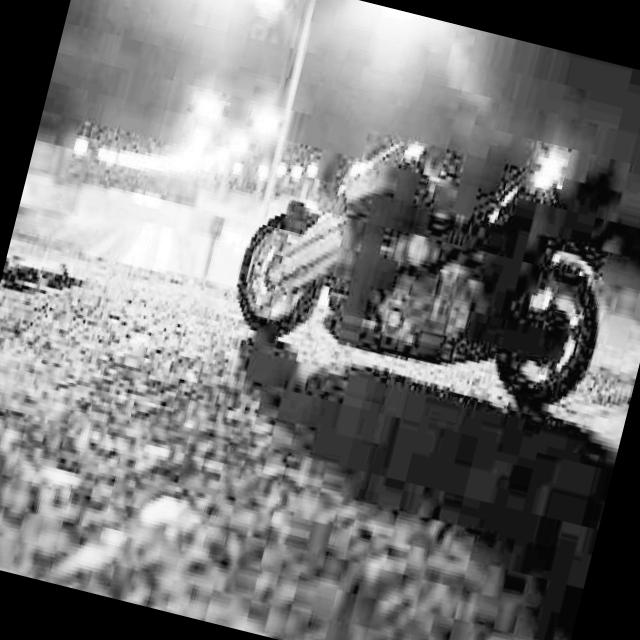Motorcycle: (208, 44, 634, 462)
